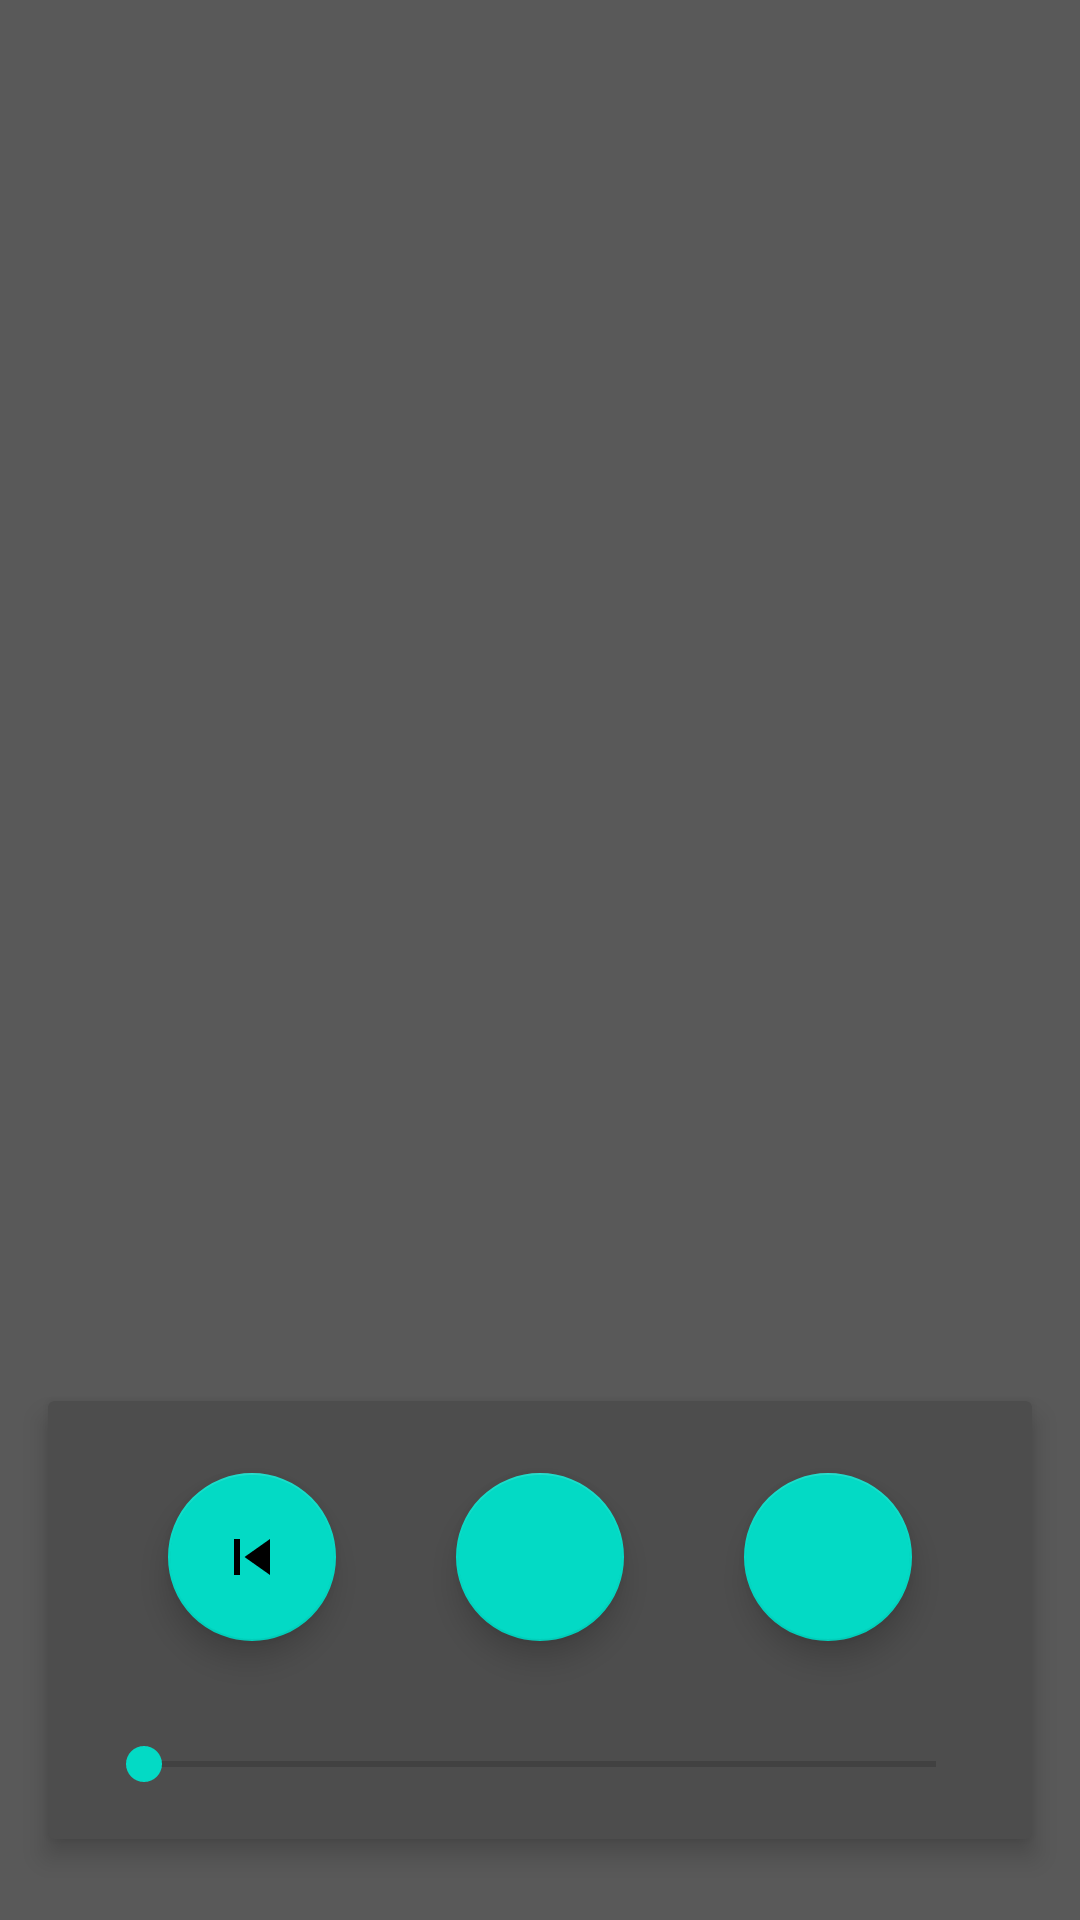

Screen size 1080w x 1920h. Icon name, then its box in pixels as (x1,y1,x2,y2):
skip previous: (168,1473,336,1641)
